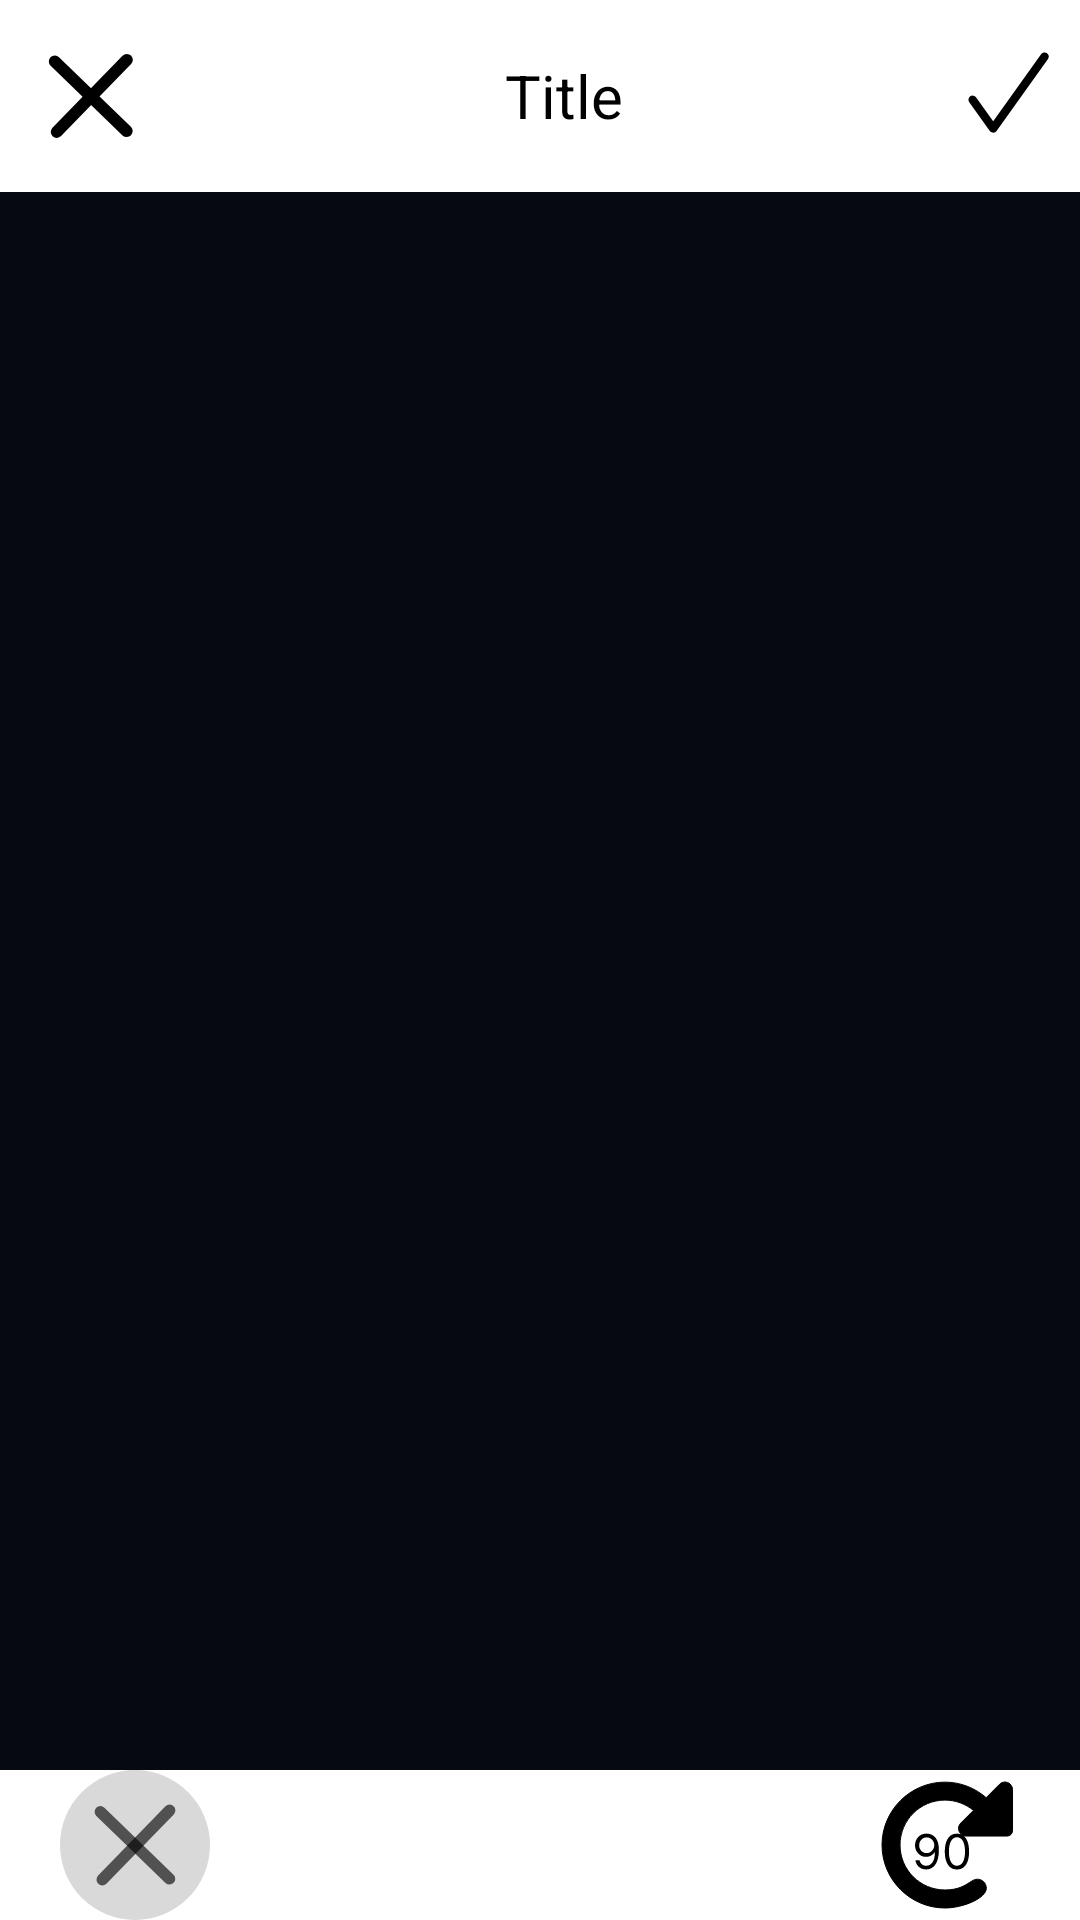

Screen size 1080 x 1920. Icon name, then its box in pixels as [x1, y1, x2, y2]:
check: [968, 52, 1049, 133]
cross: [48, 54, 133, 138]
rotate right: [881, 1781, 1013, 1909]
